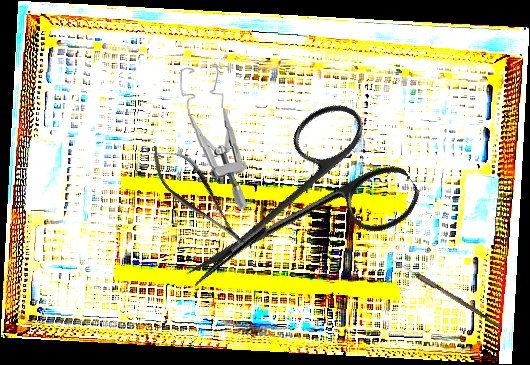Iris Scissors: (152, 88, 428, 340)
Micro Scissor: (139, 133, 257, 259)
Speculum: (179, 61, 249, 213)
Surgical Spoon: (385, 255, 504, 329)
